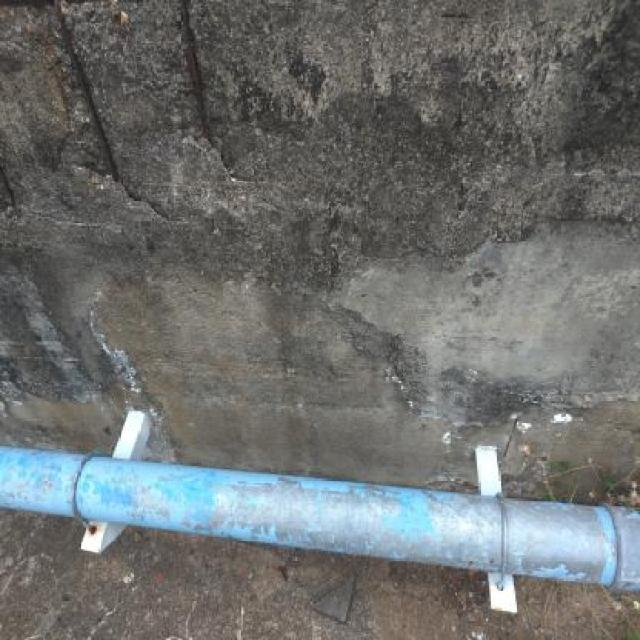gas: (1, 446, 638, 592)
